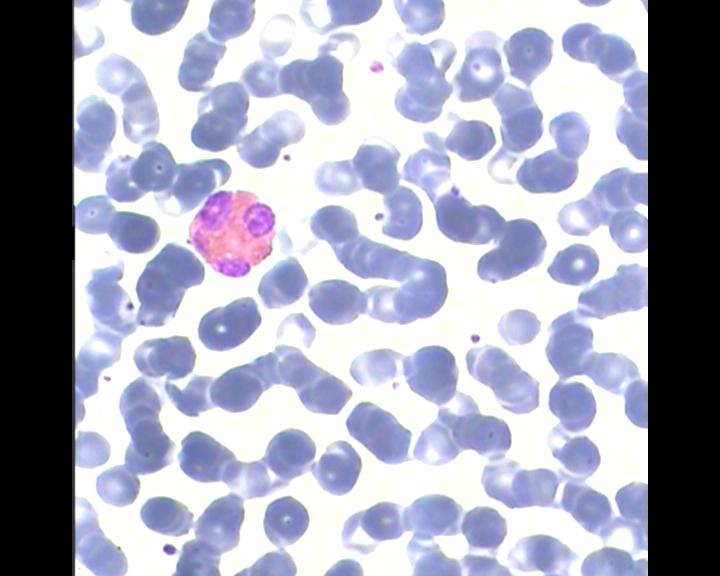eosi: (180, 187, 279, 278)
